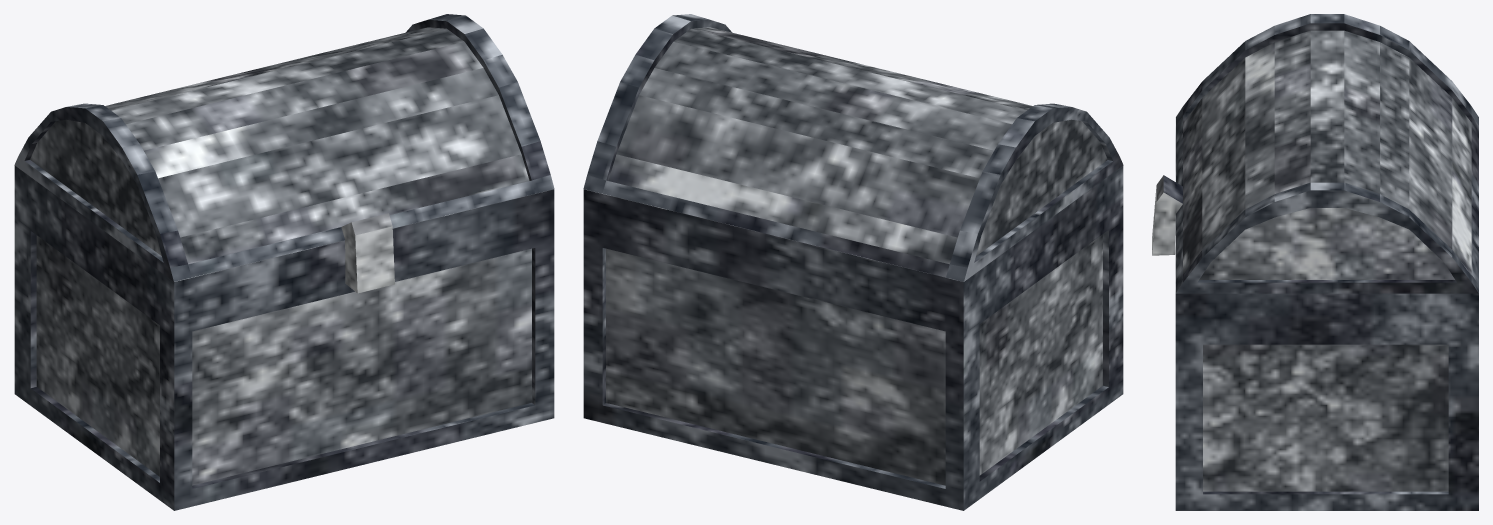
Rendered from Tier5Chest.glb.
3 renders of one model, left to right at view 1: azimuth 30°, elevation 25°; view 2: azimuth 150°, elevation 25°; view 3: azimuth 270°, elevation 25°, orthographic. The views are drawn at different scales.
Visible parts, largest first — view 1: Tier5Chest; view 2: Tier5Chest; view 3: Tier5Chest.
Part boxes in pixels (x1,y1,x2,y2): Tier5Chest: (14,14,554,510); Tier5Chest: (583,14,1123,510); Tier5Chest: (1152,14,1478,510).
Size of the model in its own units: 0.686 by 0.5817 by 0.5375.
3 materials, 3 textured.
